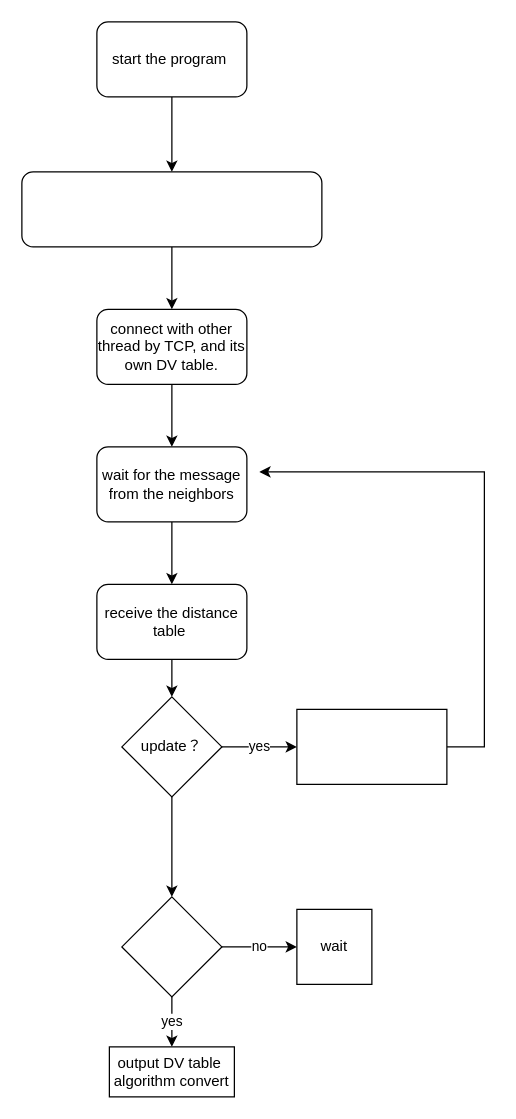
The diagram is 516 pixels wide and 1119 high, and some of its shapes have lost their labels. The shapes that lost their labels are listed below. From the top down, each one's centre as x and y in pixels, then its label:
pixel 171 209: the thread represent the node, read the network file, storage corresponding part
pixel 371 746: change the DV table send to the neighbors
pixel 171 946: all the three thread no change ?
